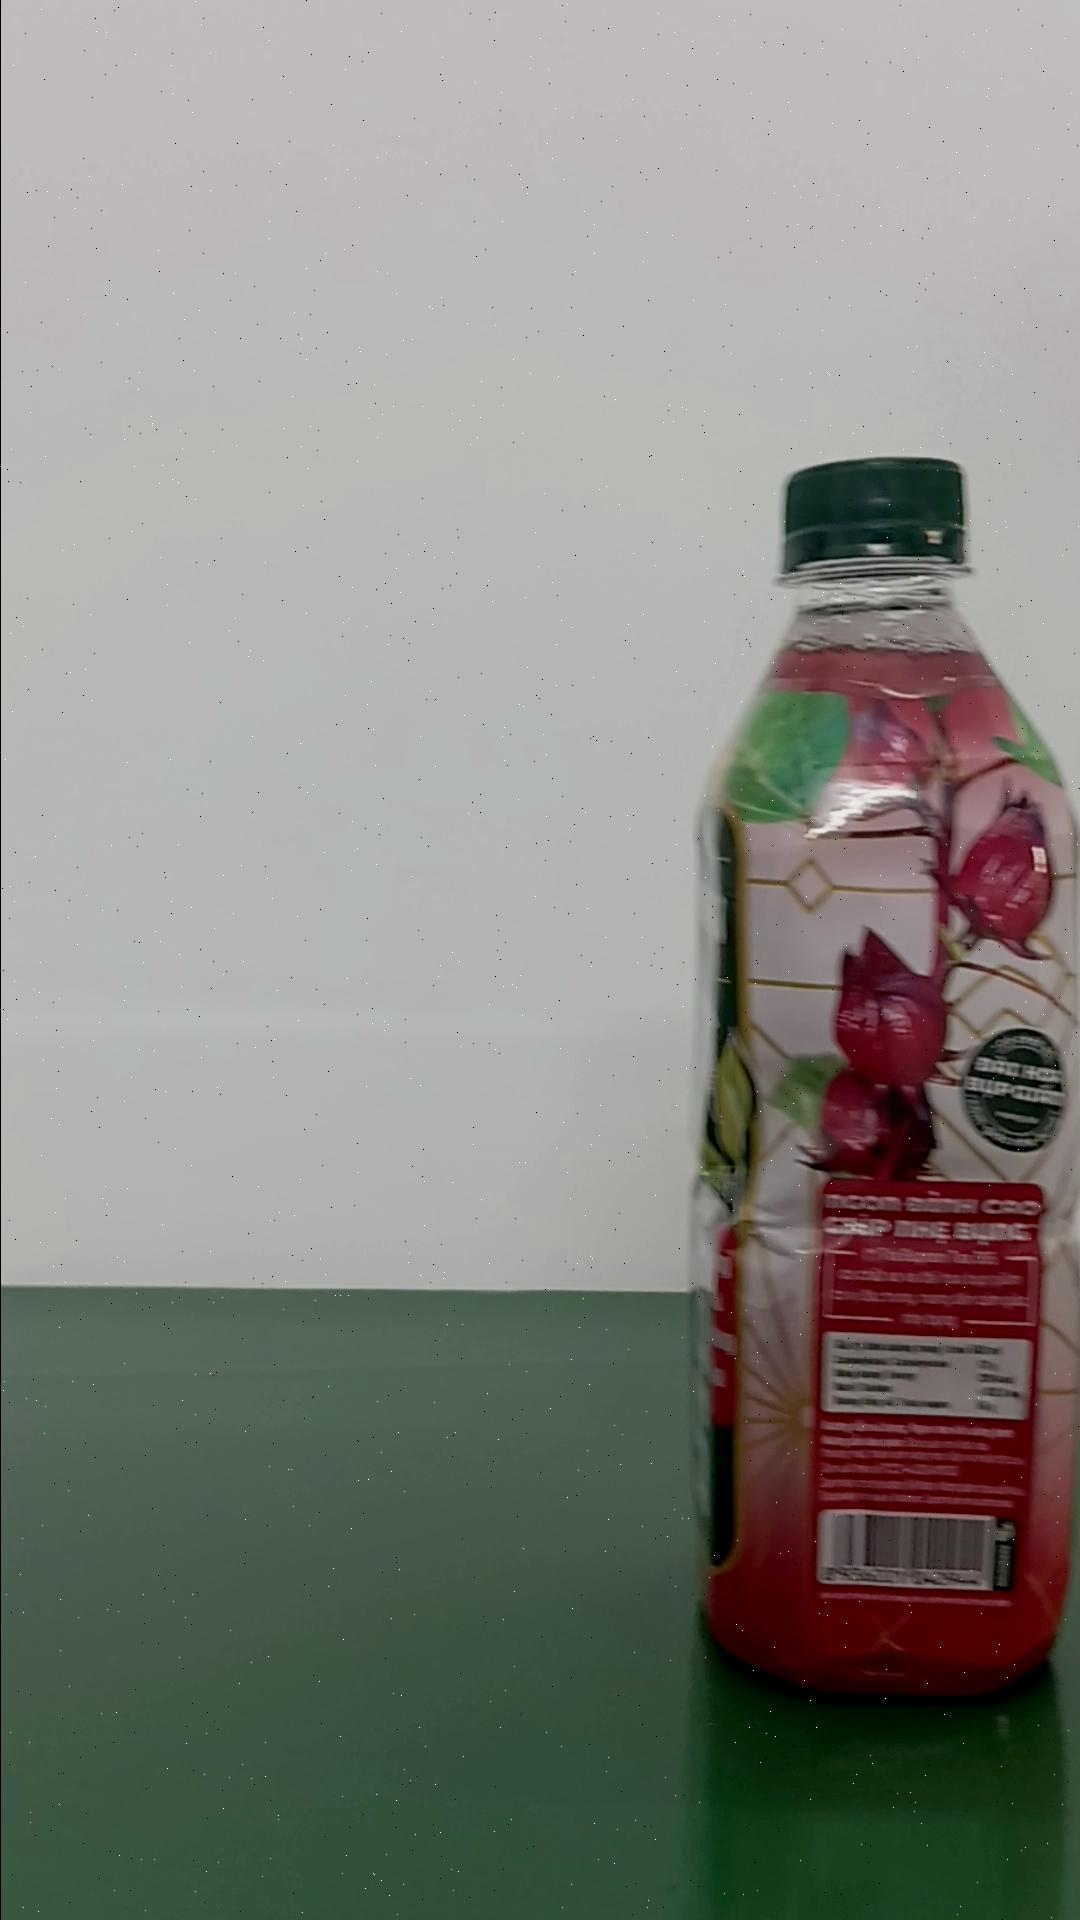loi meo sp: (686, 452, 1077, 1698)
